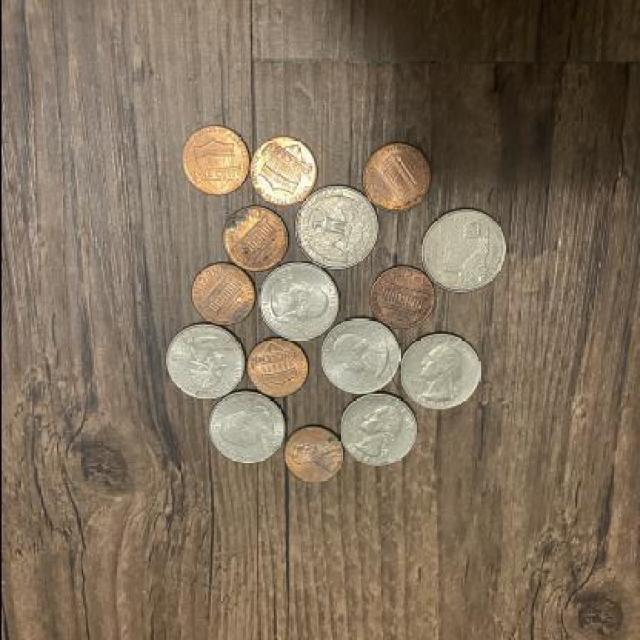Penny: (178, 124, 250, 198), (360, 141, 431, 214), (246, 136, 317, 207), (222, 205, 290, 272), (366, 264, 434, 330), (189, 262, 257, 326), (246, 338, 311, 400), (282, 425, 344, 483)
Quarter: (417, 209, 508, 294), (294, 186, 377, 269), (398, 332, 482, 410), (163, 324, 249, 400), (258, 260, 338, 340), (318, 316, 398, 396), (204, 390, 284, 468), (337, 394, 417, 464)
